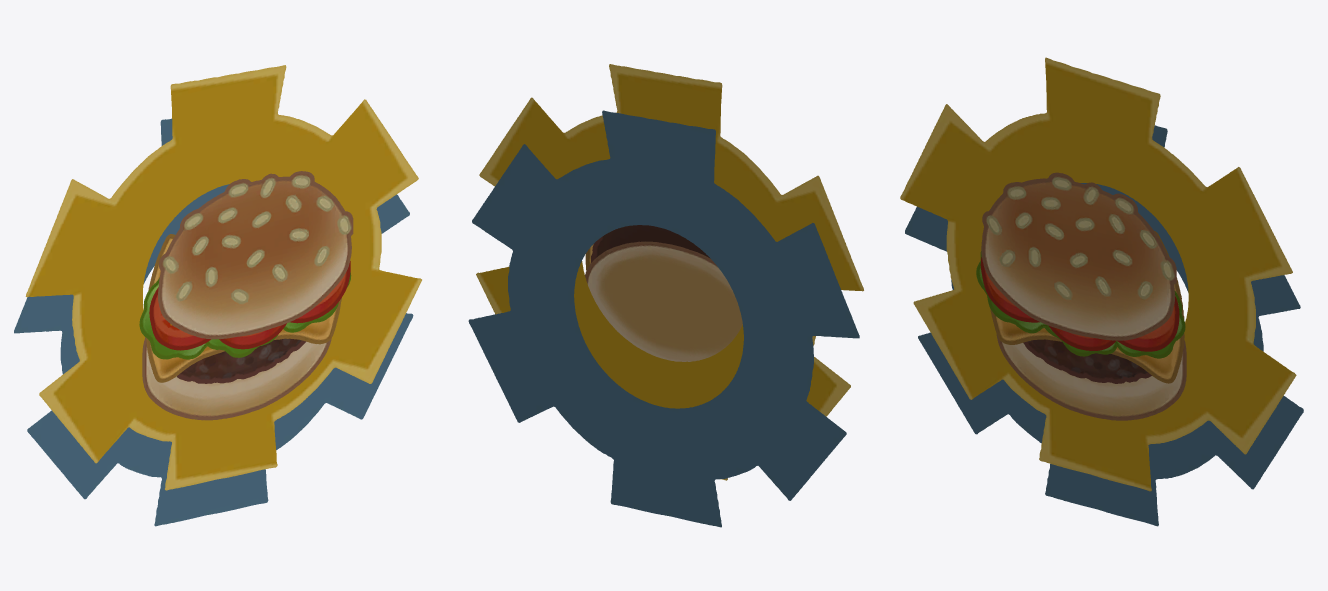
File: m_UI_SavingIcon_01.fbx
3 views of the same model, side by side, from view 1: azimuth 30°, elevation 25°; view 2: azimuth 150°, elevation 25°; view 3: azimuth 330°, elevation 25° (orthographic). The views are drawn at different scales.
Visible parts, largest first — view 1: m_savecog_01, m_saveBurgerTop, m_savecogshadow_01, m_savebunbottom_01, m_saveBurger_01, m_savecheese_01, m_Savetomato_01, m_SaveLettuce_03, m_SaveTomato_02, m_SaveTomato_03; view 2: m_savecogshadow_01, m_savecog_01, m_savebunbottom_01, m_saveBurger_01; view 3: m_savecog_01, m_saveBurgerTop, m_savecogshadow_01, m_savebunbottom_01, m_saveBurger_01, m_savecheese_01, m_SaveTomato_02, m_Savetomato_01, m_SaveLettuce_01, m_SaveLettuce_03, m_SaveTomato_03.
Boxes of the visible parts, bbox=[...] form: m_savecog_01: bbox=[25, 65, 421, 490]; m_saveBurgerTop: bbox=[158, 171, 353, 339]; m_savecogshadow_01: bbox=[14, 118, 413, 526]; m_savebunbottom_01: bbox=[142, 337, 331, 420]; m_saveBurger_01: bbox=[177, 338, 306, 383]; m_savecheese_01: bbox=[146, 234, 341, 382]; m_Savetomato_01: bbox=[149, 287, 210, 350]; m_SaveLettuce_03: bbox=[139, 277, 207, 359]; m_SaveTomato_02: bbox=[290, 261, 350, 323]; m_SaveTomato_03: bbox=[219, 323, 286, 349]; m_savecogshadow_01: bbox=[468, 110, 859, 527]; m_savecog_01: bbox=[476, 64, 863, 480]; m_savebunbottom_01: bbox=[585, 241, 742, 361]; m_saveBurger_01: bbox=[591, 225, 710, 262]; m_savecog_01: bbox=[900, 57, 1296, 491]; m_saveBurgerTop: bbox=[981, 172, 1176, 340]; m_savecogshadow_01: bbox=[905, 125, 1303, 526]; m_savebunbottom_01: bbox=[996, 334, 1186, 420]; m_saveBurger_01: bbox=[1023, 339, 1151, 383]; m_savecheese_01: bbox=[990, 231, 1184, 383]; m_SaveTomato_02: bbox=[1117, 296, 1179, 351]; m_Savetomato_01: bbox=[980, 257, 1039, 322]; m_SaveLettuce_01: bbox=[1114, 291, 1185, 358]; m_SaveLettuce_03: bbox=[976, 251, 1049, 333]; m_SaveTomato_03: bbox=[1049, 326, 1116, 350].
Size of the model in its own units: 0.1001 by 0.1096 by 0.0143.
1 material, 1 textured.
